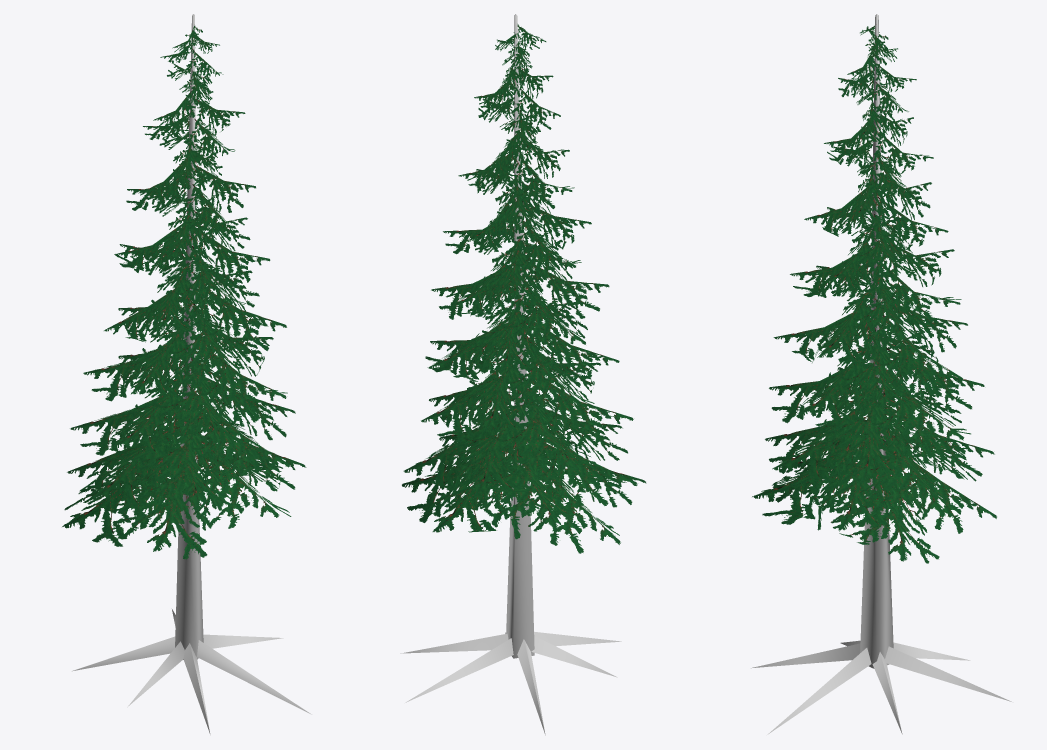
Rendered from Pine_4_LOD2.fbx.
The picture shows the model from 3 angles, left to right: view 1: azimuth 30°, elevation 25°; view 2: azimuth 150°, elevation 25°; view 3: azimuth 270°, elevation 25°; orthographic projection. The views are drawn at different scales.
Parts seen in each view (by area): view 1: Tree_1, Tree_0; view 2: Tree_1, Tree_0; view 3: Tree_1, Tree_0.
Boxes of the visible parts, left/top/right/bottom form: Tree_1: left=62, top=25, right=306, bottom=559; Tree_0: left=72, top=14, right=311, bottom=734; Tree_1: left=402, top=24, right=646, bottom=553; Tree_0: left=400, top=14, right=621, bottom=735; Tree_1: left=752, top=25, right=996, bottom=563; Tree_0: left=751, top=14, right=1011, bottom=734.
Size of the model in its own units: 137 by 332 by 141.
